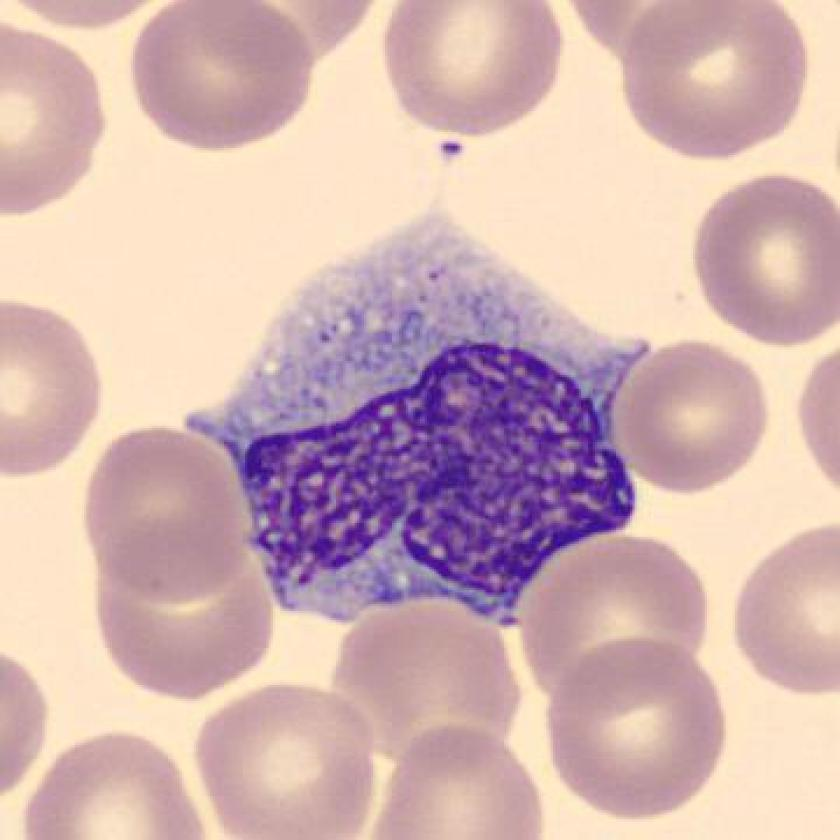monocyte: (174, 189, 671, 647)
